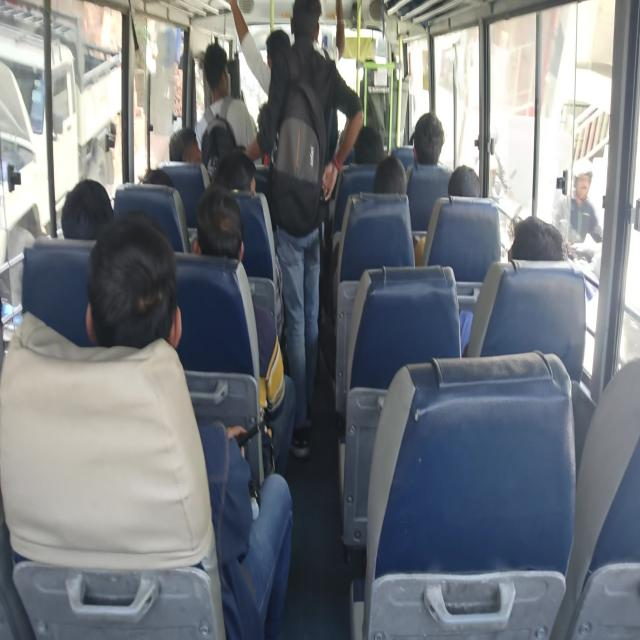person: (85, 211, 293, 638), (226, 0, 364, 458), (192, 184, 296, 477), (459, 214, 569, 356), (85, 212, 182, 350), (194, 41, 259, 168), (413, 164, 481, 265), (552, 156, 602, 248), (60, 178, 114, 240), (508, 214, 568, 262), (410, 111, 446, 167), (372, 155, 407, 194), (168, 126, 202, 164), (353, 125, 384, 164), (447, 164, 481, 197)
